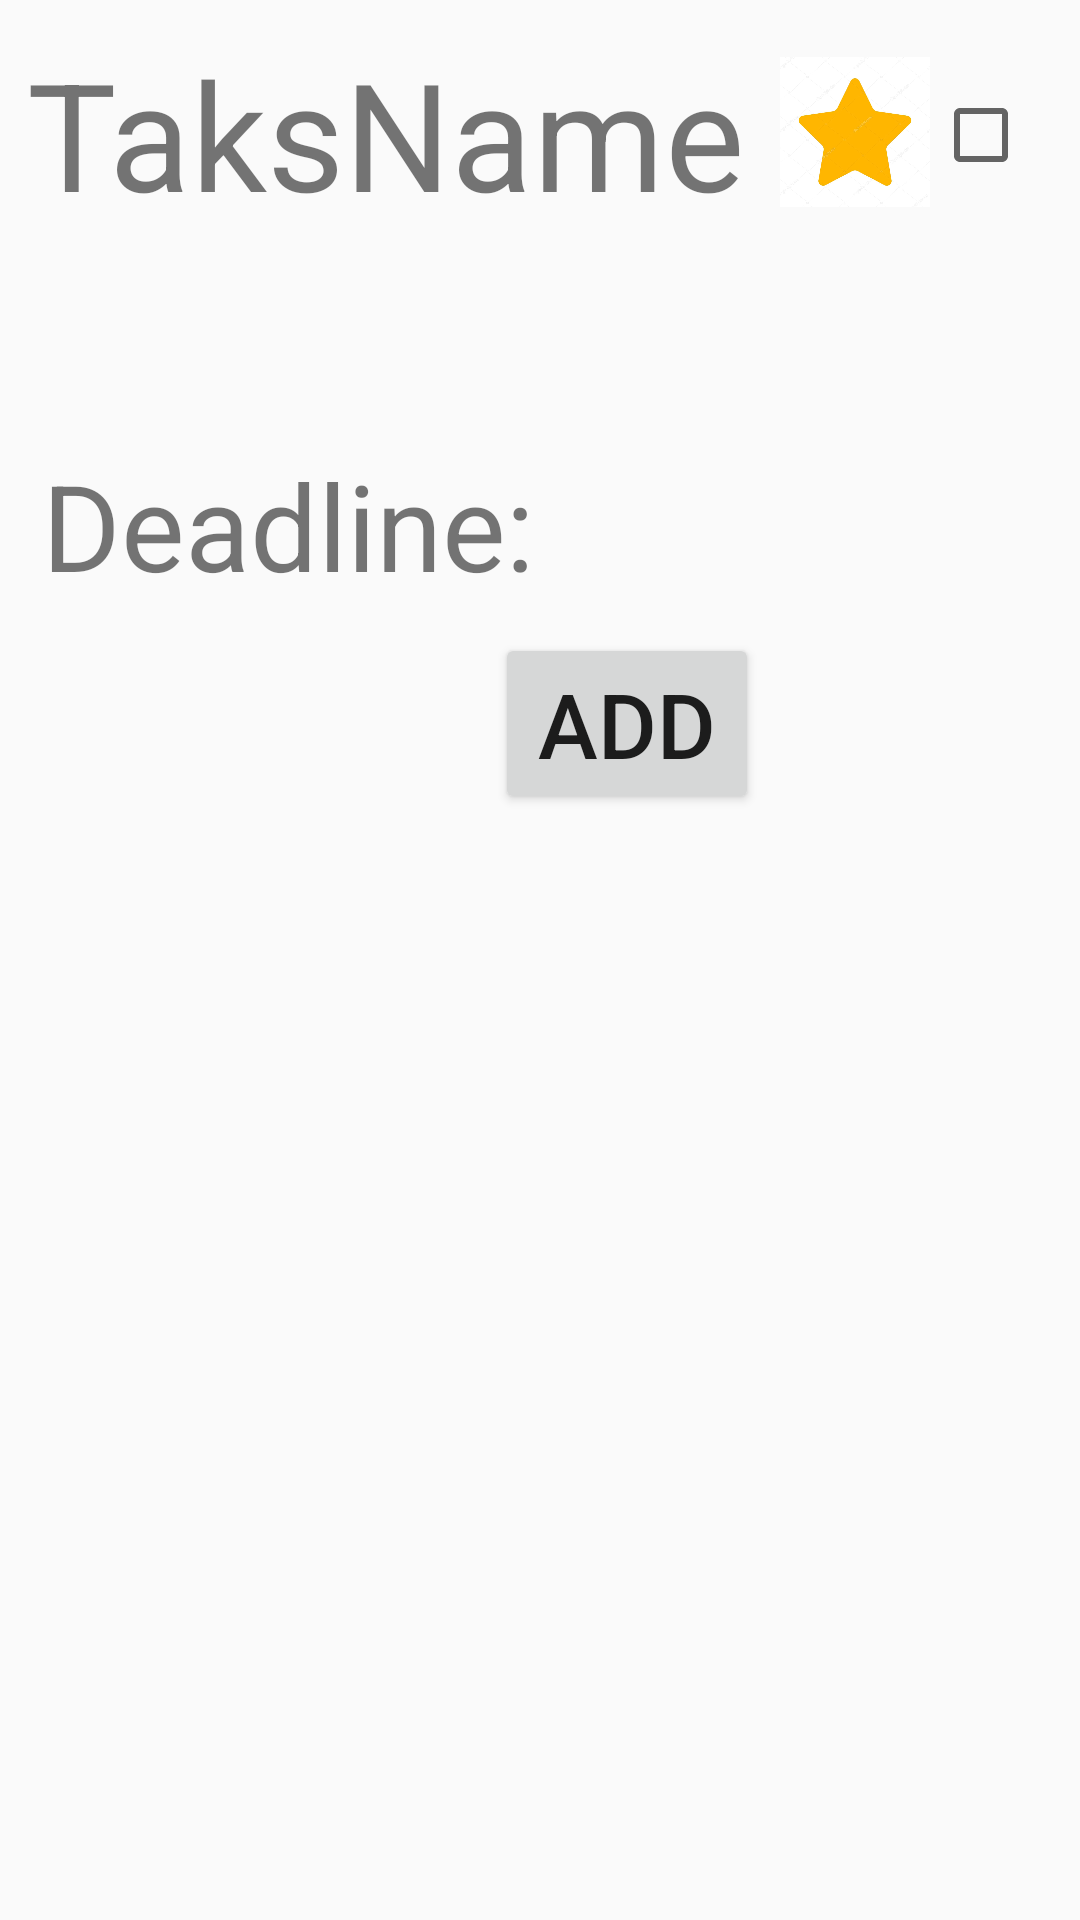

Locate icon controls on the screen. Image size 1080×1920, boxes as (x1, y1, x2, y2).
starmark: (799, 78, 911, 186)
